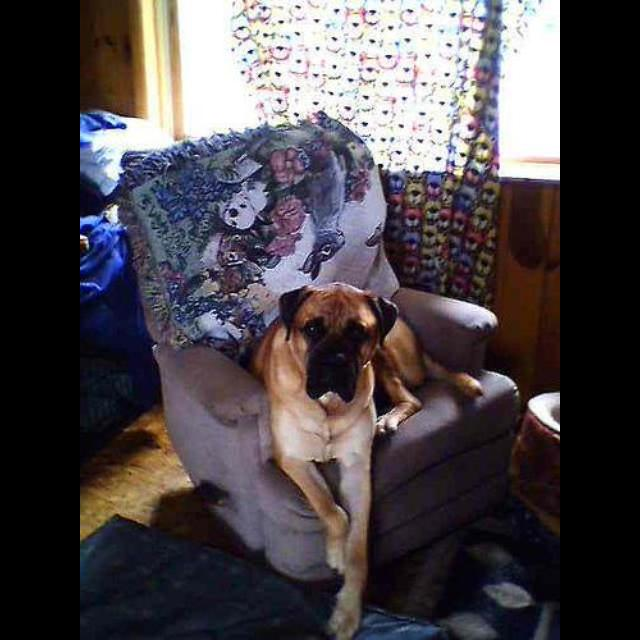bullmastiff: (249, 282, 484, 640)
